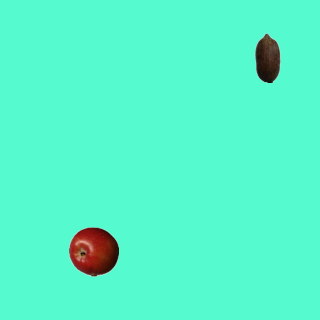Apple Braeburn: (68, 226, 118, 276)
Nut Pecan: (242, 32, 292, 82)
